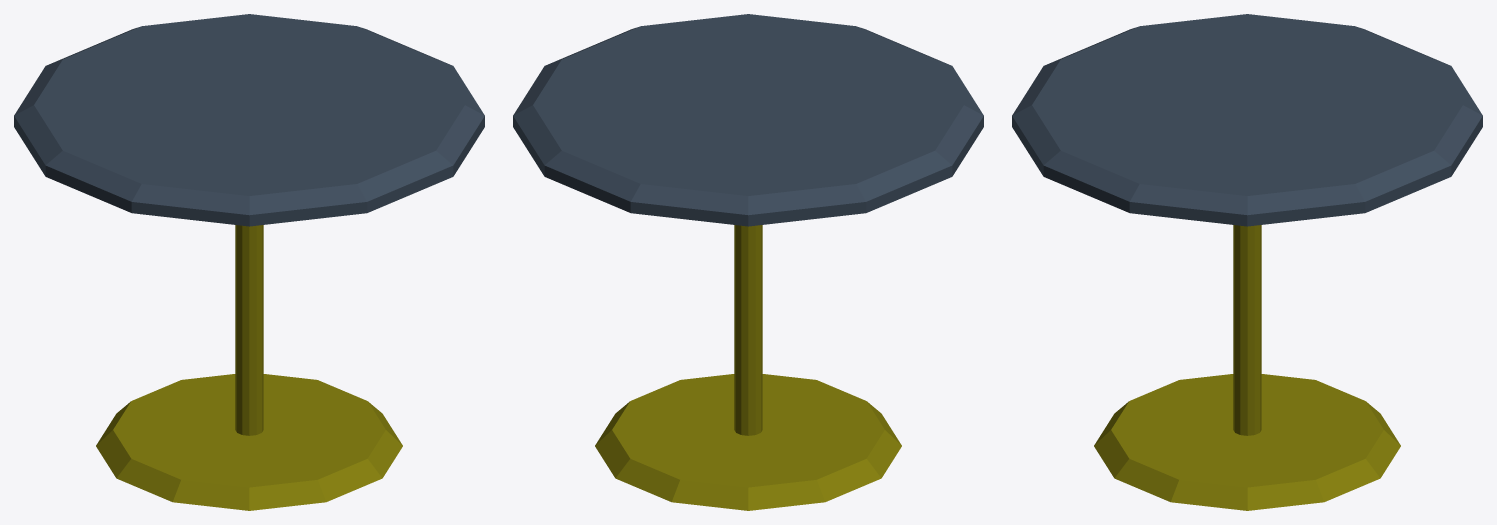
File: DiscoTable.fbx
The picture shows the model from 3 angles, left to right: view 1: azimuth 30°, elevation 25°; view 2: azimuth 150°, elevation 25°; view 3: azimuth 270°, elevation 25°; orthographic projection.
Parts seen in each view (by area): view 1: Cube.005; view 2: Cube.005; view 3: Cube.005.
Part boxes in pixels (<box>): Cube.005: <box>14,14,484,510</box>; Cube.005: <box>513,14,983,510</box>; Cube.005: <box>1012,14,1482,510</box>.
Size of the model in its own units: 306 by 245 by 306.
